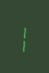one: (19, 19, 27, 53)
